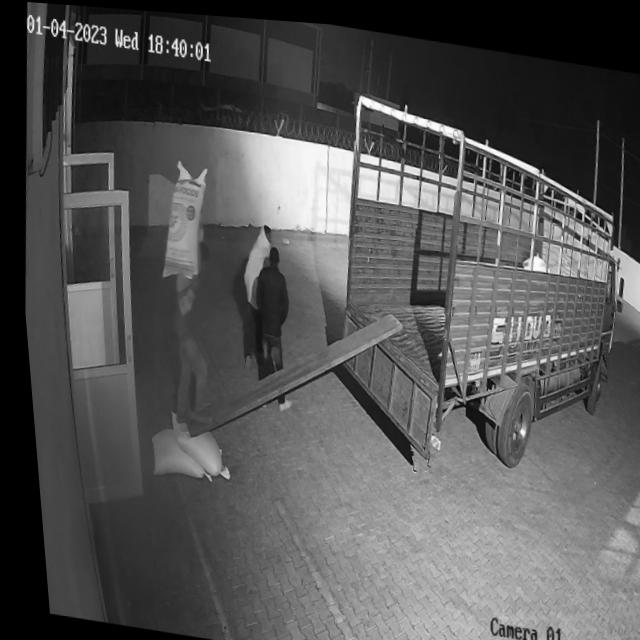sack: (149, 154, 212, 284), (159, 407, 220, 475), (141, 424, 199, 479)
